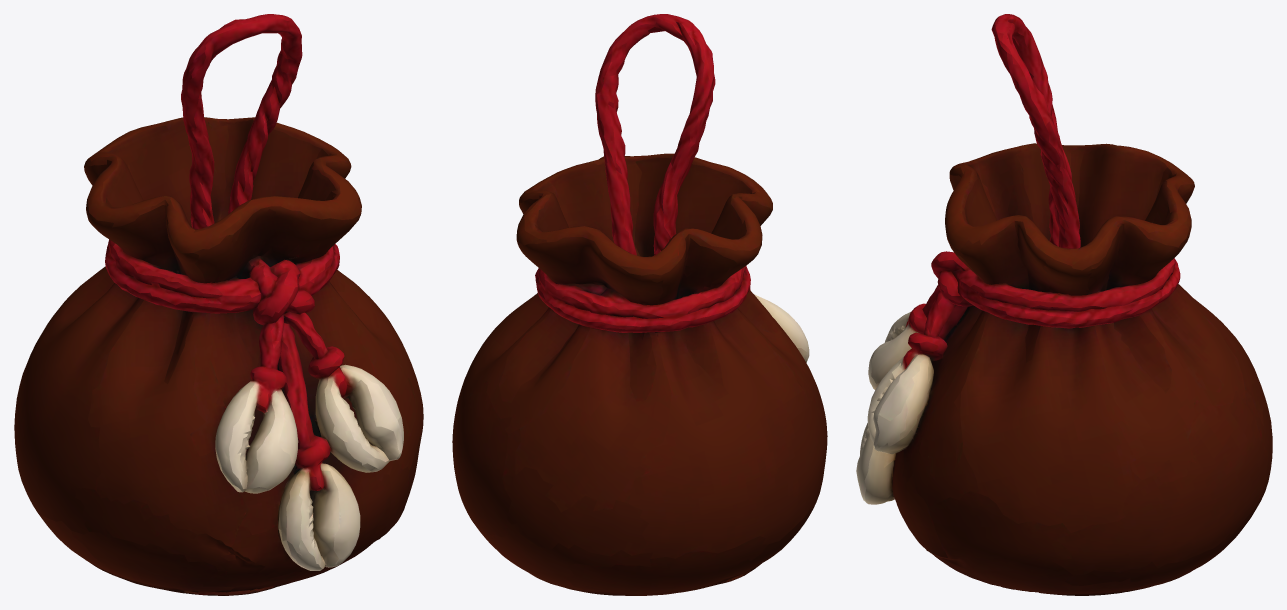
The model's file is amulet_pouch.glb.
3 views of the same model, side by side, from view 1: azimuth 30°, elevation 25°; view 2: azimuth 150°, elevation 25°; view 3: azimuth 270°, elevation 25° (orthographic). The views are drawn at different scales.
Parts seen in each view (by area): view 1: geometry_0; view 2: geometry_0; view 3: geometry_0.
Boxes of the visible parts, bbox=[...] form: geometry_0: bbox=[14, 14, 423, 595]; geometry_0: bbox=[452, 14, 827, 595]; geometry_0: bbox=[856, 14, 1272, 595].
Size of the model in its own units: 0.1235 by 0.18 by 0.1316.
1 material, 1 textured.
